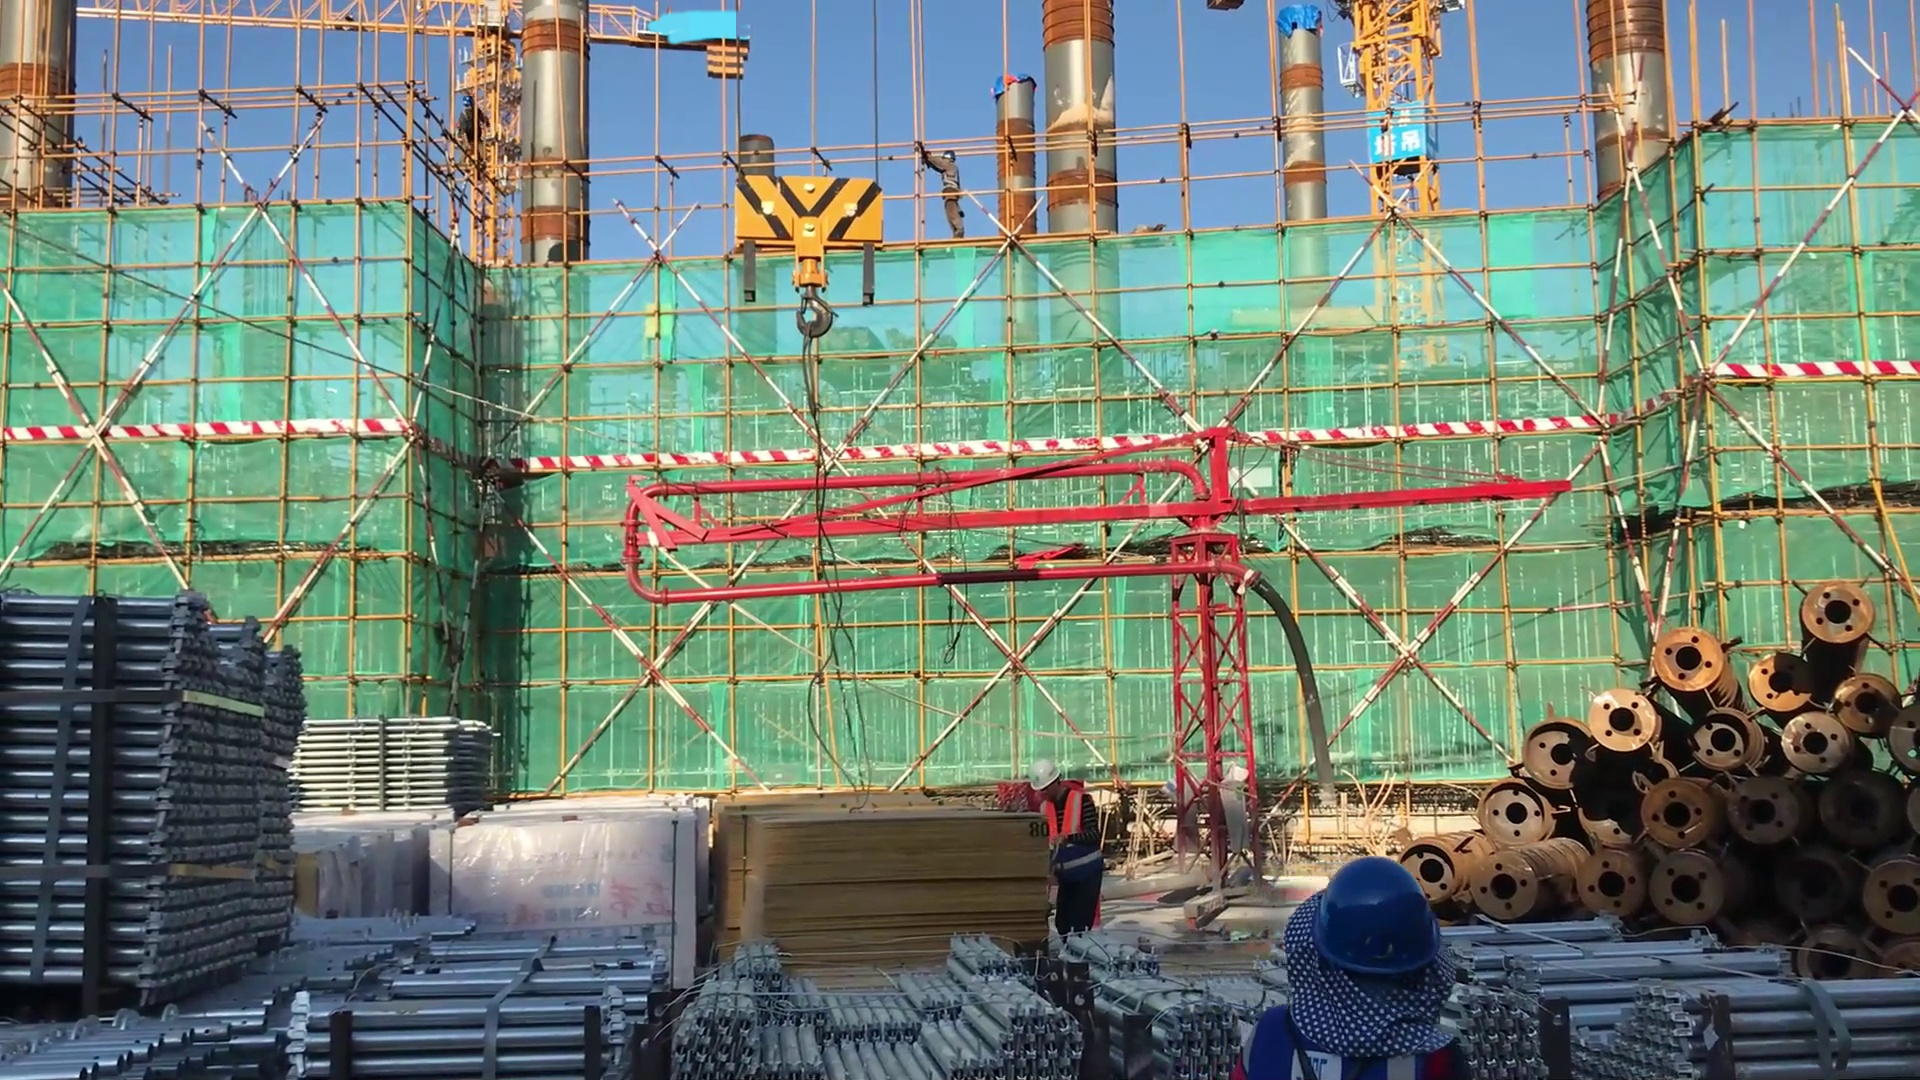board: (719, 799, 1051, 961)
helmet: (1291, 852, 1453, 978), (1029, 756, 1063, 794), (937, 145, 958, 162)
hook: (713, 159, 901, 380)
person: (1229, 853, 1491, 1080), (1025, 752, 1114, 948), (907, 130, 975, 254)
scaffold: (1, 591, 305, 1080), (1468, 921, 1920, 1080), (300, 914, 679, 1080), (676, 928, 1084, 1080), (283, 713, 536, 807), (1083, 955, 1261, 1080)
slogan: (1372, 107, 1438, 167)
vest: (1243, 996, 1481, 1079), (1039, 793, 1111, 887)
